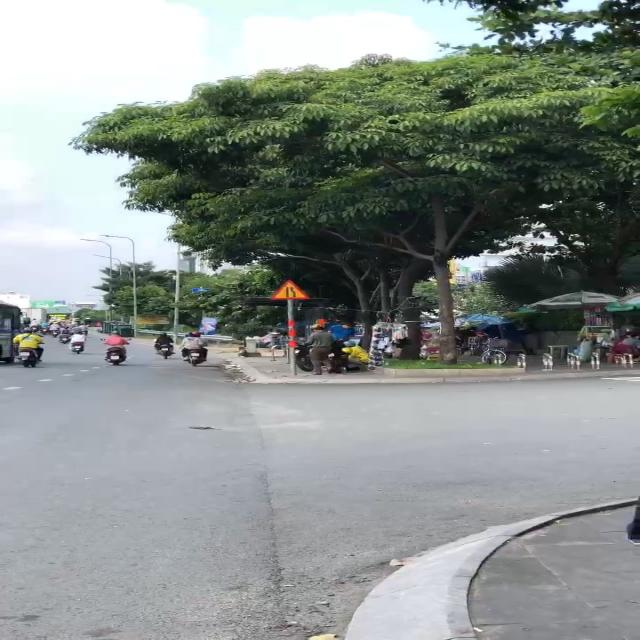Bien bao duong bi thu hep: (268, 276, 311, 302)
